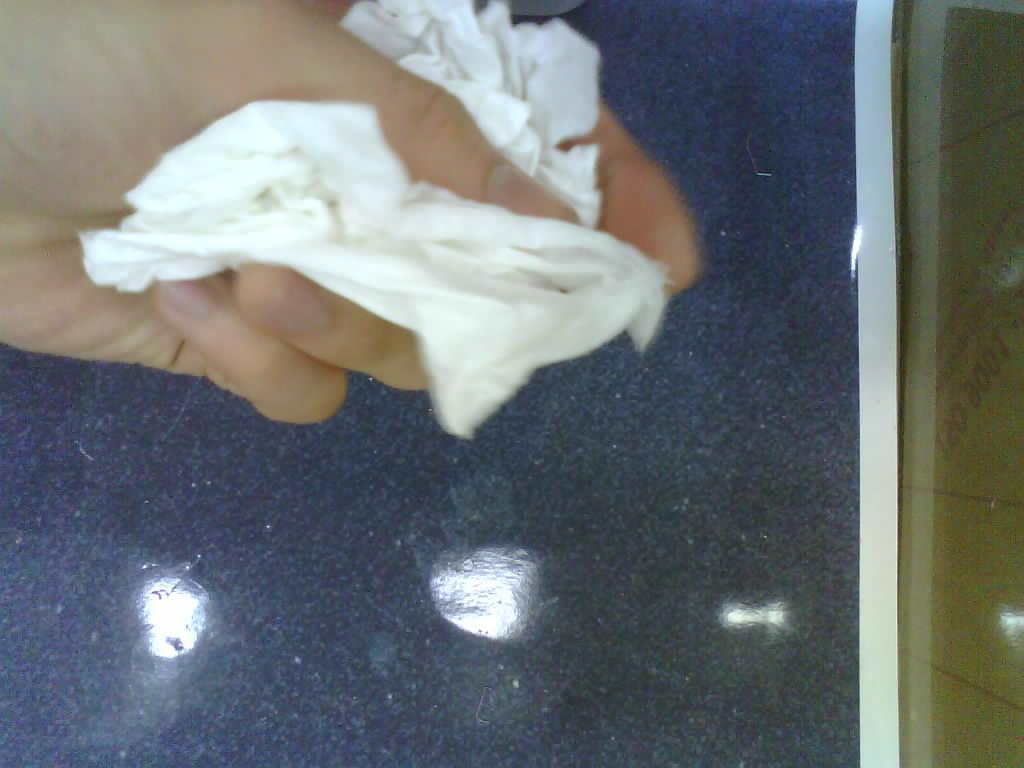paper: (80, 0, 666, 439)
